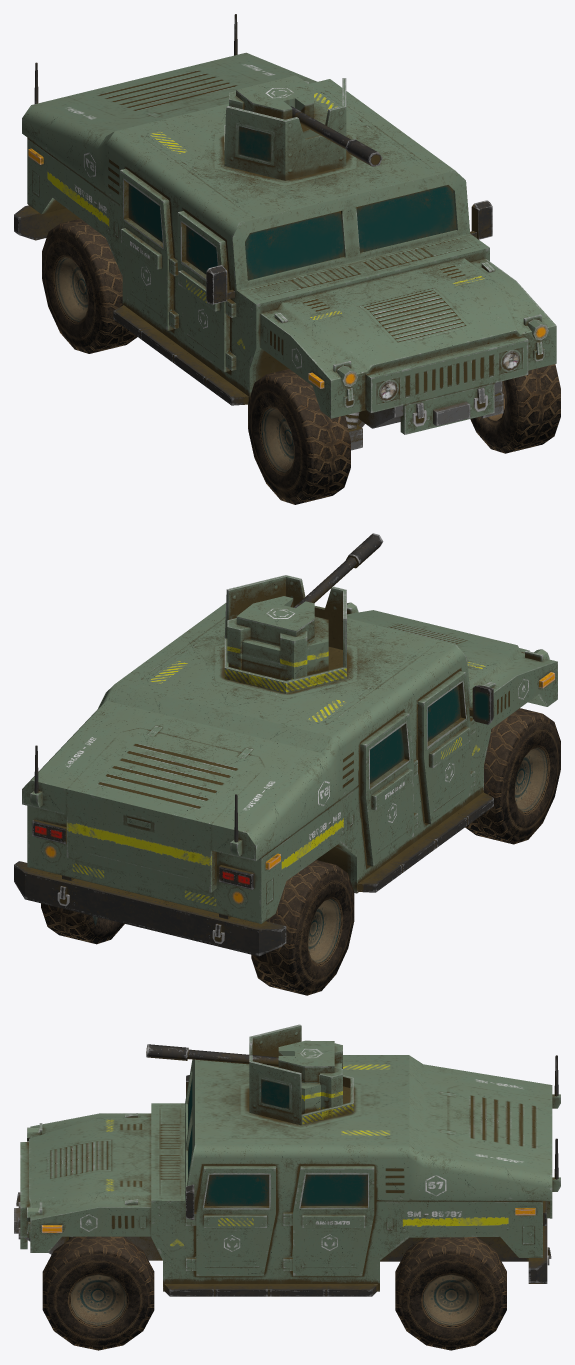
3 renders of one model, top to bottom at view 1: azimuth 30°, elevation 25°; view 2: azimuth 150°, elevation 25°; view 3: azimuth 270°, elevation 25°, orthographic. The views are drawn at different scales.
Visible parts, largest first — view 1: body, WheelRF, turret_base, WhwwlRR, WheelLF, canon; view 2: body, turret_base, WhwwlRR, WheelRF, WheelLR, canon; view 3: body, WheelLF, WheelLR, turret_base, canon.
Boxes of the visible parts, left/top/right/bottom form: body: left=14, top=14, right=556, bottom=450; WheelRF: left=248, top=369, right=350, bottom=504; turret_base: left=224, top=75, right=346, bottom=180; WhwwlRR: left=42, top=218, right=137, bottom=353; WheelLF: left=470, top=364, right=560, bottom=453; canon: left=290, top=106, right=382, bottom=166; body: left=14, top=602, right=557, bottom=956; turret_base: left=224, top=575, right=346, bottom=693; WhwwlRR: left=251, top=860, right=354, bottom=995; WheelRF: left=465, top=708, right=560, bottom=844; WheelLR: left=41, top=903, right=124, bottom=944; canon: left=294, top=533, right=383, bottom=607; body: left=14, top=1055, right=560, bottom=1296; WheelLF: left=42, top=1236, right=154, bottom=1350; WheelLR: left=395, top=1237, right=506, bottom=1350; turret_base: left=249, top=1024, right=353, bottom=1125; canon: left=146, top=1044, right=278, bottom=1066.
Size of the model in its own units: 379 by 378 by 741.
Materials: 2 (2 with a texture image).
